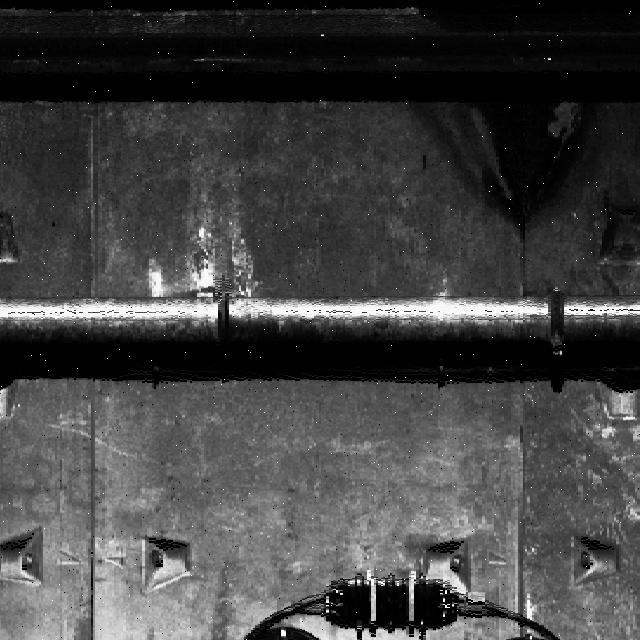leakage: (416, 6, 639, 224)
